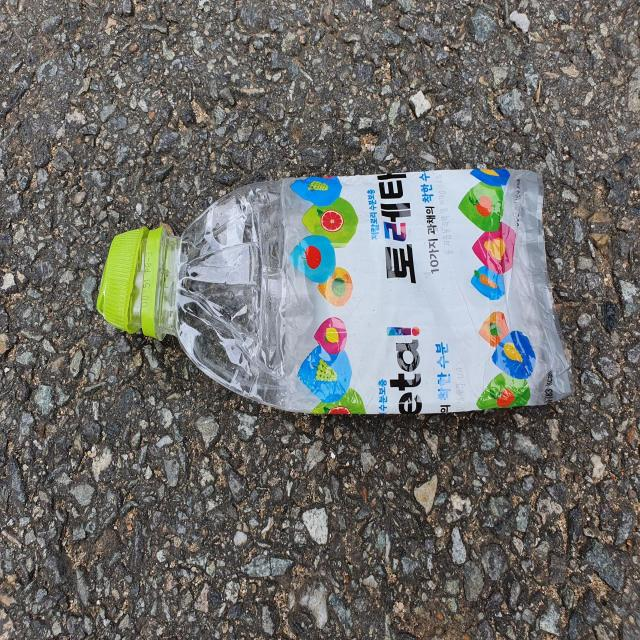plastic: (96, 168, 574, 414)
